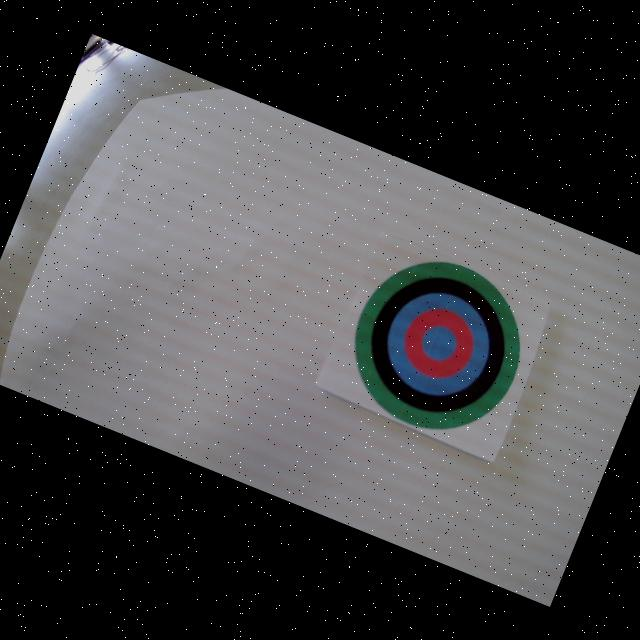COGNITIVE: (328, 236, 546, 455)
